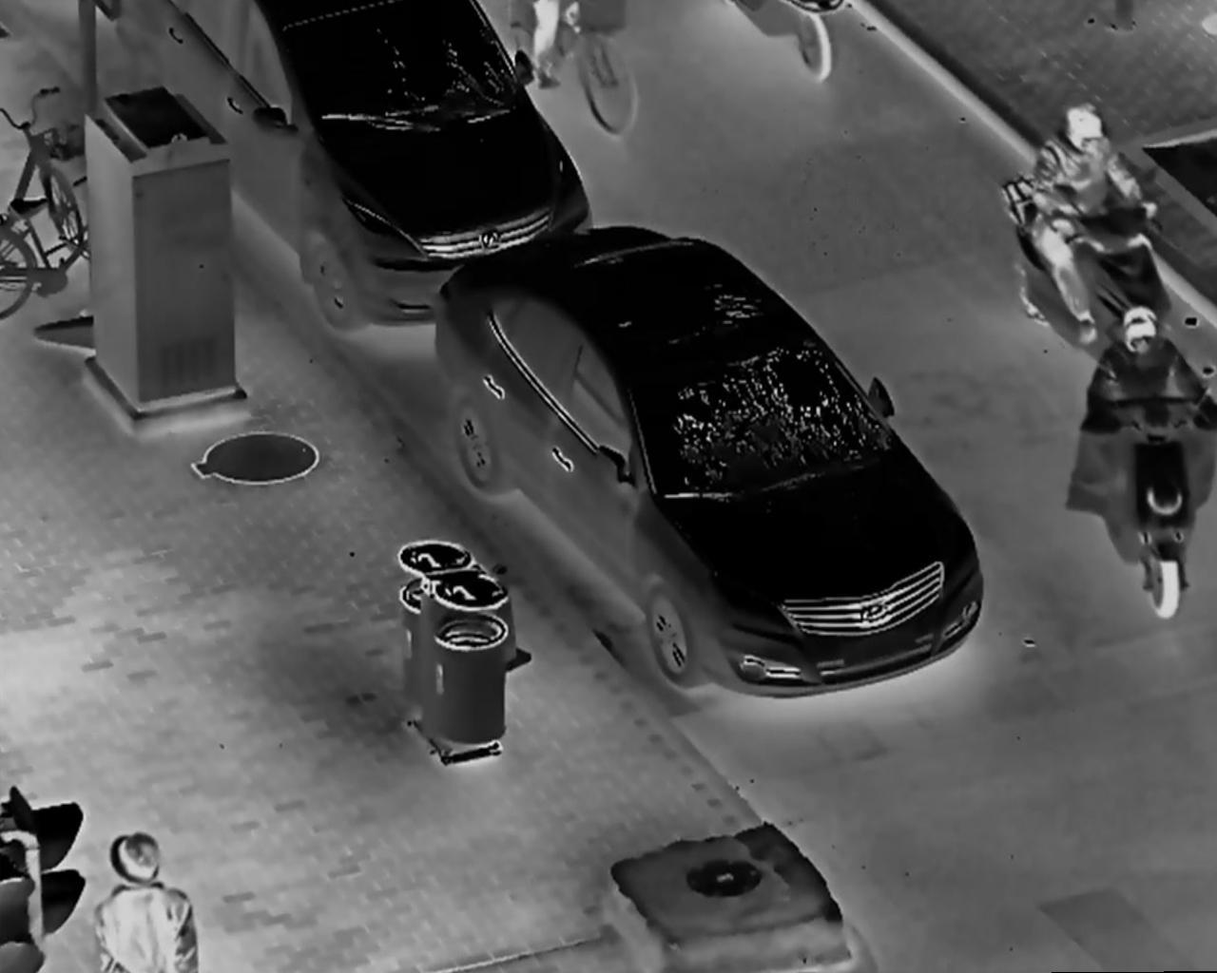person: (1027, 99, 1165, 344), (1090, 304, 1212, 565), (87, 831, 206, 973)
